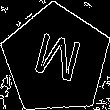M_S: (28, 29, 84, 90)
